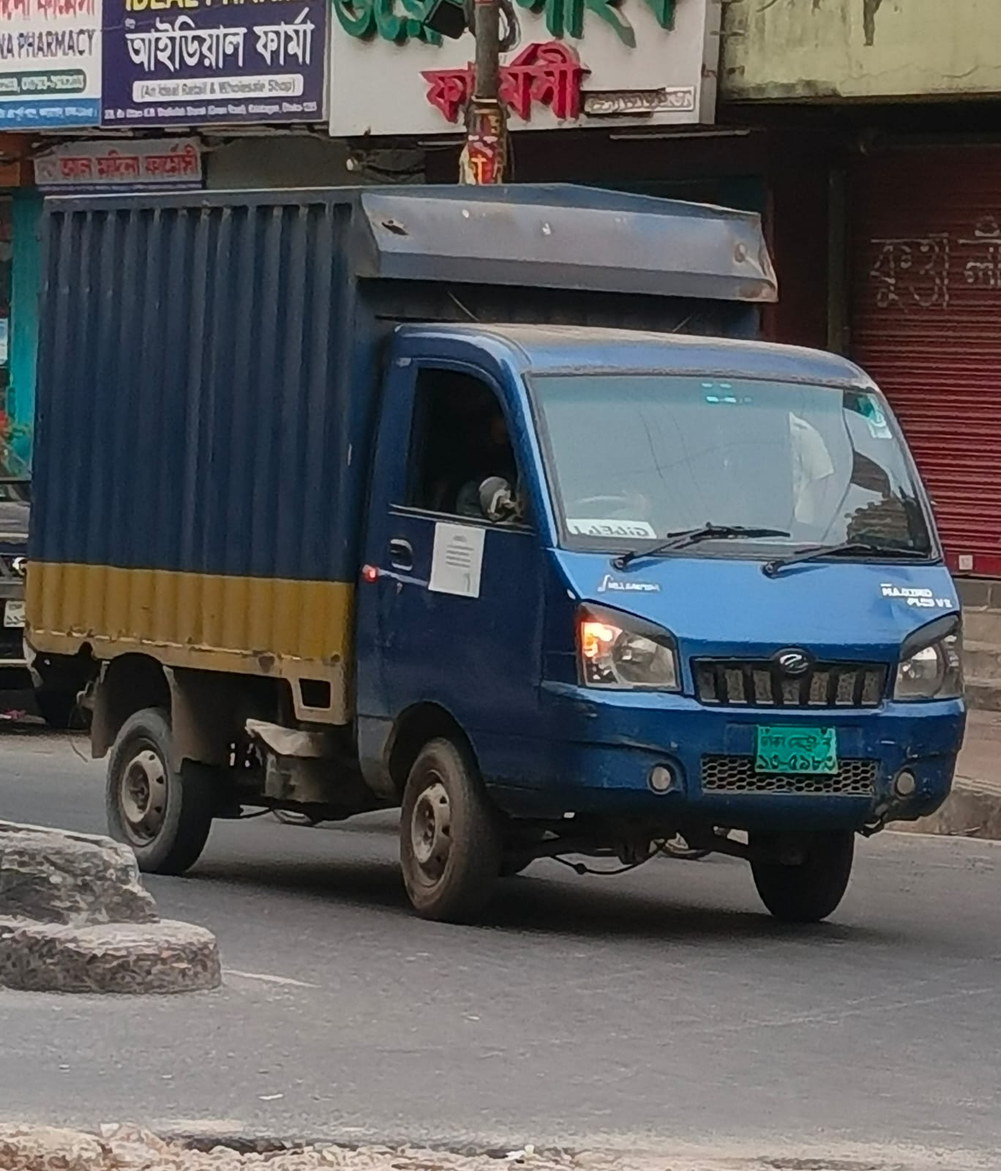Pickup: (12, 125, 1001, 1039)
